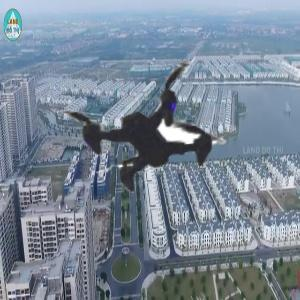drone: (2, 4, 292, 294)
